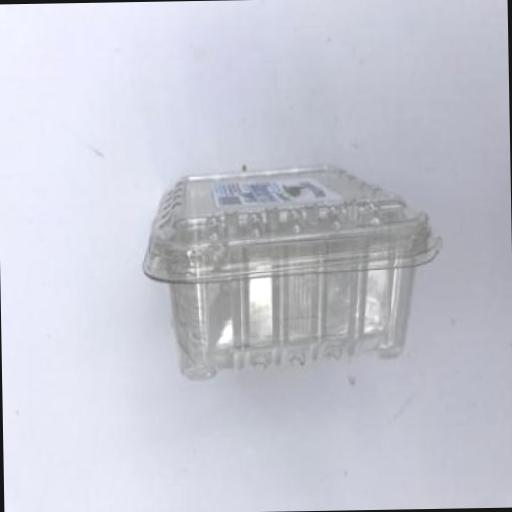plastic: (140, 161, 442, 380)
